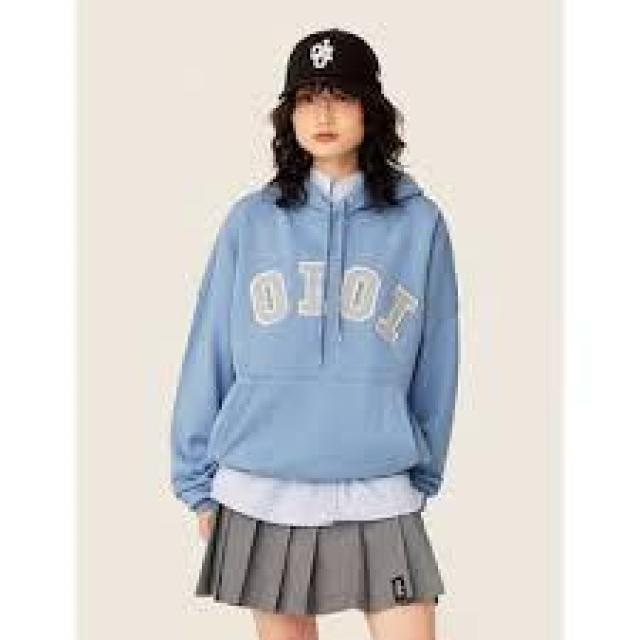skirt: (194, 474, 446, 627)
sweater: (172, 170, 462, 520)
